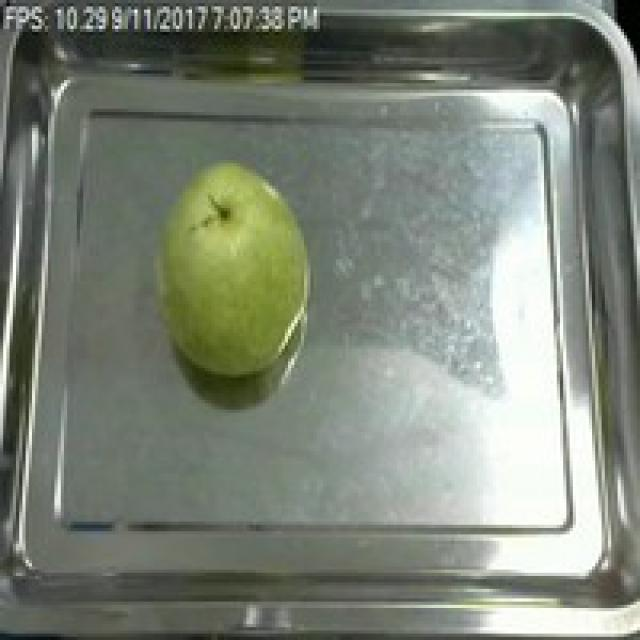Fruit: (141, 147, 320, 387)
